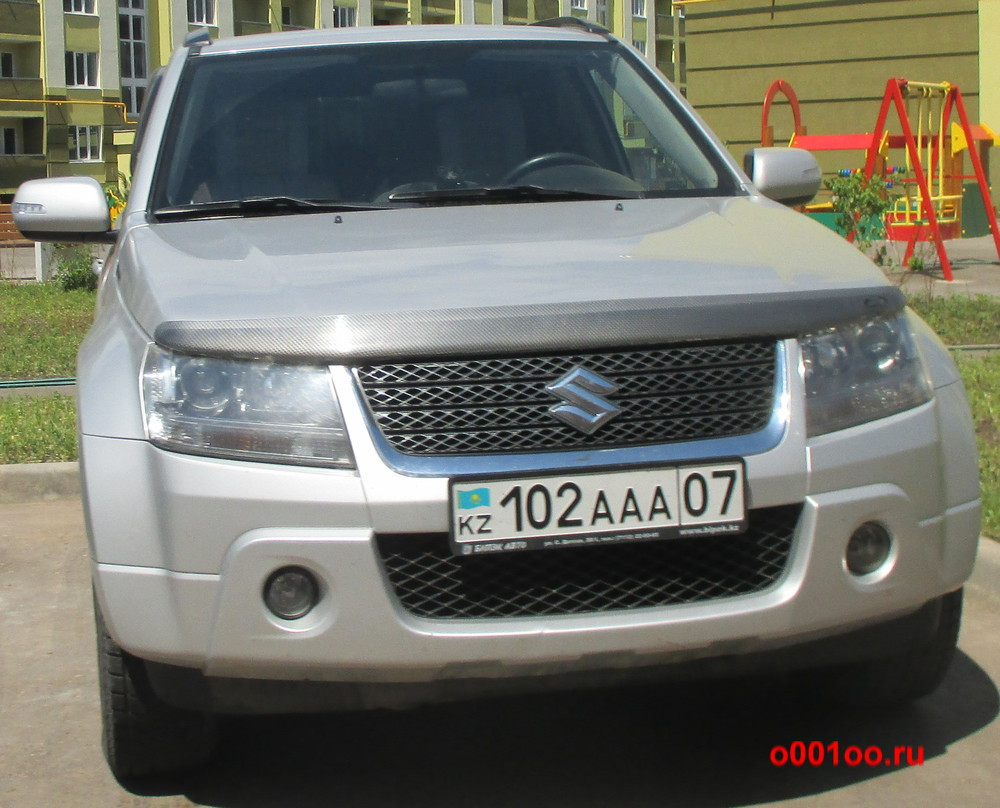license_plate: (445, 462, 745, 541)
